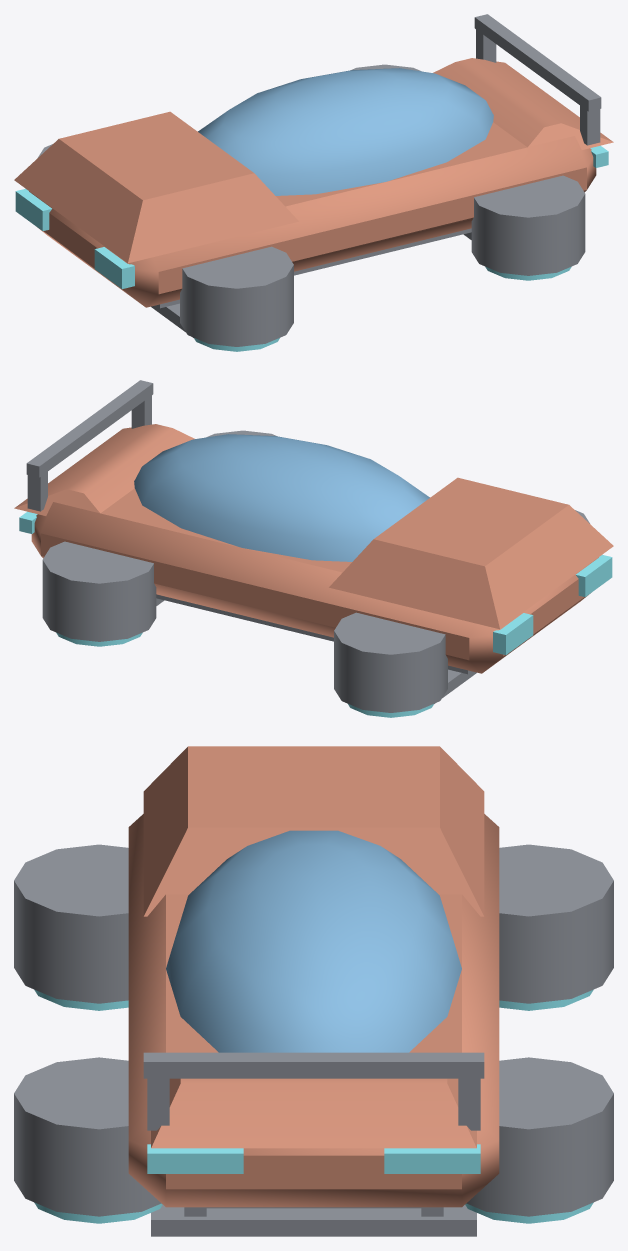
The model's file is CalleVehiculo.fbx.
The picture shows the model from 3 angles, top to bottom: view 1: azimuth 30°, elevation 25°; view 2: azimuth 150°, elevation 25°; view 3: azimuth 270°, elevation 25°; orthographic projection. The views are drawn at different scales.
Visible parts, largest first — view 1: CalleVehiculo_Base_Cuerpo, CalleVehiculo_Base_Cristal, CalleVehiculo_Base_Metal, CalleVehiculo_Base_Luz; view 2: CalleVehiculo_Base_Cuerpo, CalleVehiculo_Base_Cristal, CalleVehiculo_Base_Metal, CalleVehiculo_Base_Luz; view 3: CalleVehiculo_Base_Cuerpo, CalleVehiculo_Base_Metal, CalleVehiculo_Base_Cristal, CalleVehiculo_Base_Luz.
Boxes of the visible parts, x1,y1,x2,y2 form: CalleVehiculo_Base_Cuerpo: [14, 58, 613, 307]; CalleVehiculo_Base_Cristal: [198, 68, 493, 195]; CalleVehiculo_Base_Metal: [38, 14, 601, 346]; CalleVehiculo_Base_Luz: [15, 145, 608, 351]; CalleVehiculo_Base_Cuerpo: [14, 424, 613, 673]; CalleVehiculo_Base_Cristal: [134, 434, 429, 561]; CalleVehiculo_Base_Metal: [26, 380, 589, 712]; CalleVehiculo_Base_Luz: [19, 511, 612, 717]; CalleVehiculo_Base_Cuerpo: [128, 746, 499, 1207]; CalleVehiculo_Base_Metal: [14, 844, 613, 1236]; CalleVehiculo_Base_Cristal: [166, 830, 461, 1052]; CalleVehiculo_Base_Luz: [34, 989, 593, 1223].
Bounding box in the file's own units: 1145 × 381 × 810.
